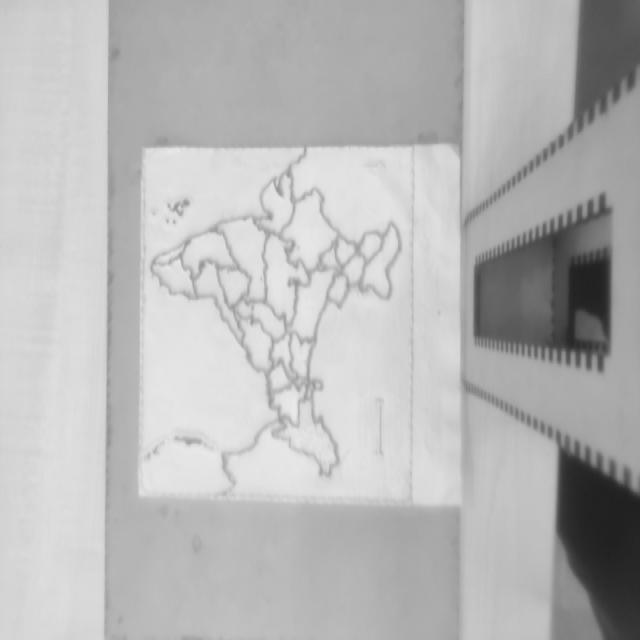map: (139, 143, 415, 505)
